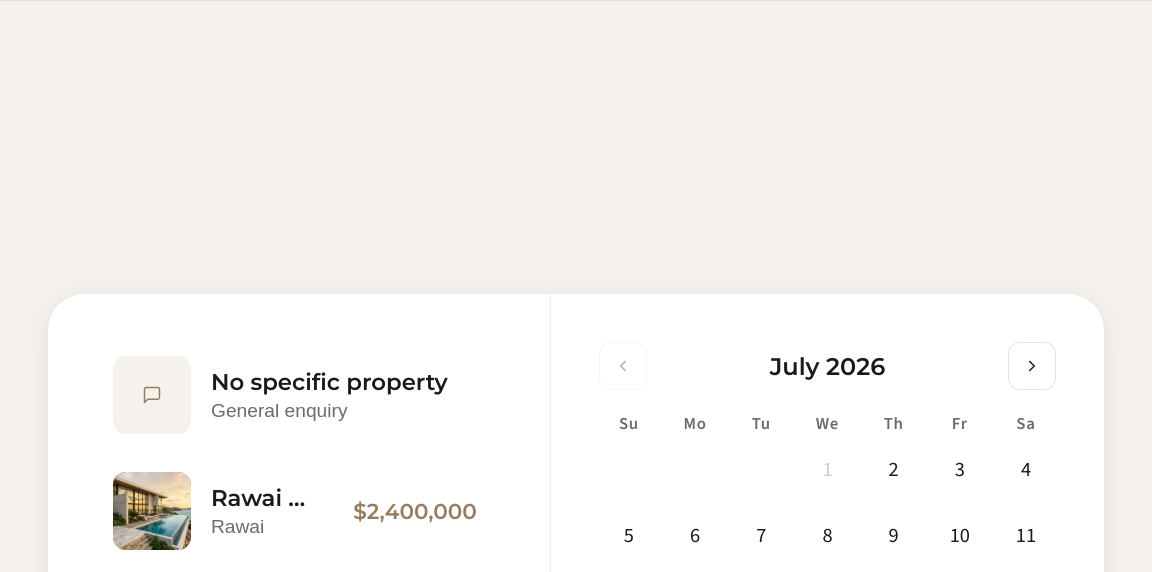
it: ConsultationBooking › pre-selects the property and its agent from a ?book= deep link
This screenshot has width=1152, height=572.
Click the button "2": point(894, 470) [864, 440, 924, 500]
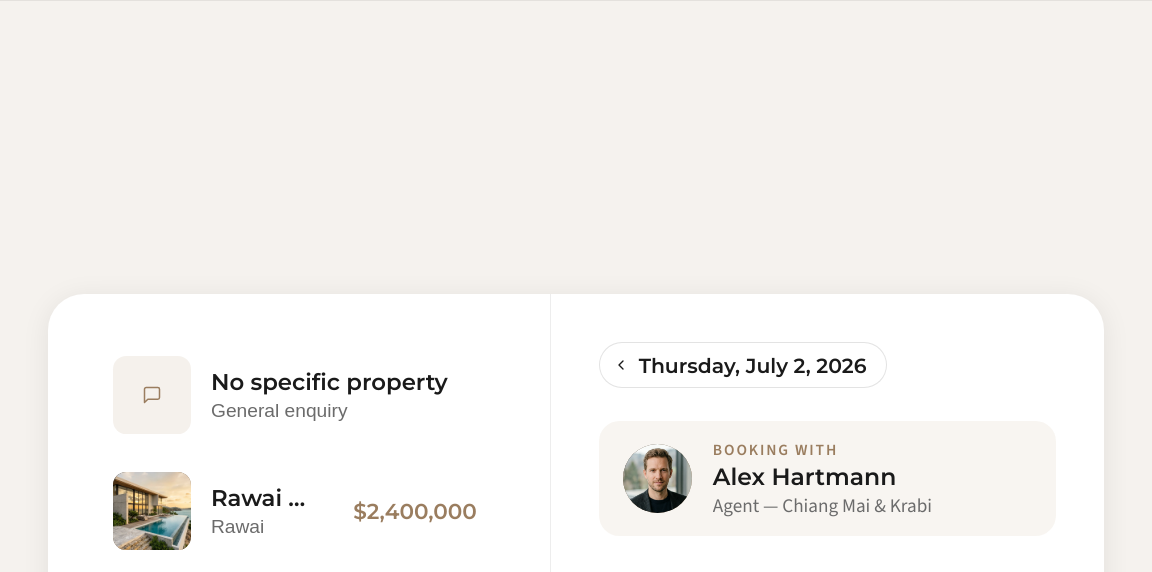
Expected: the text "Alex Hartmann" is shown, [713, 462, 896, 491]
